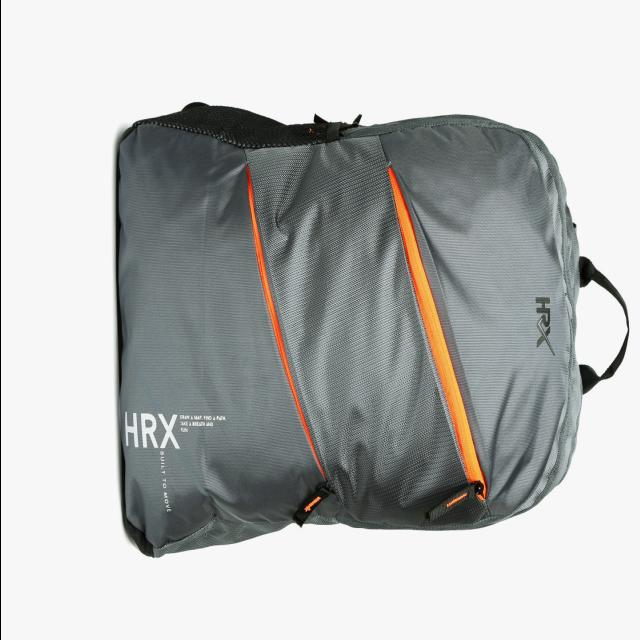backpack: (117, 104, 631, 560)
